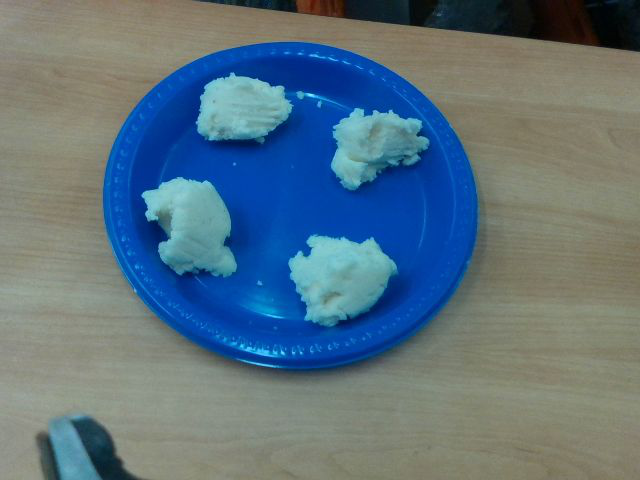mashed_potato: (288, 234, 399, 328), (140, 177, 238, 279), (330, 108, 430, 190), (197, 73, 292, 142)
